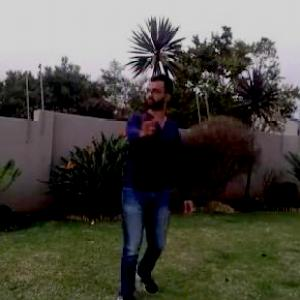takeoff-hand: (136, 104, 164, 138)
